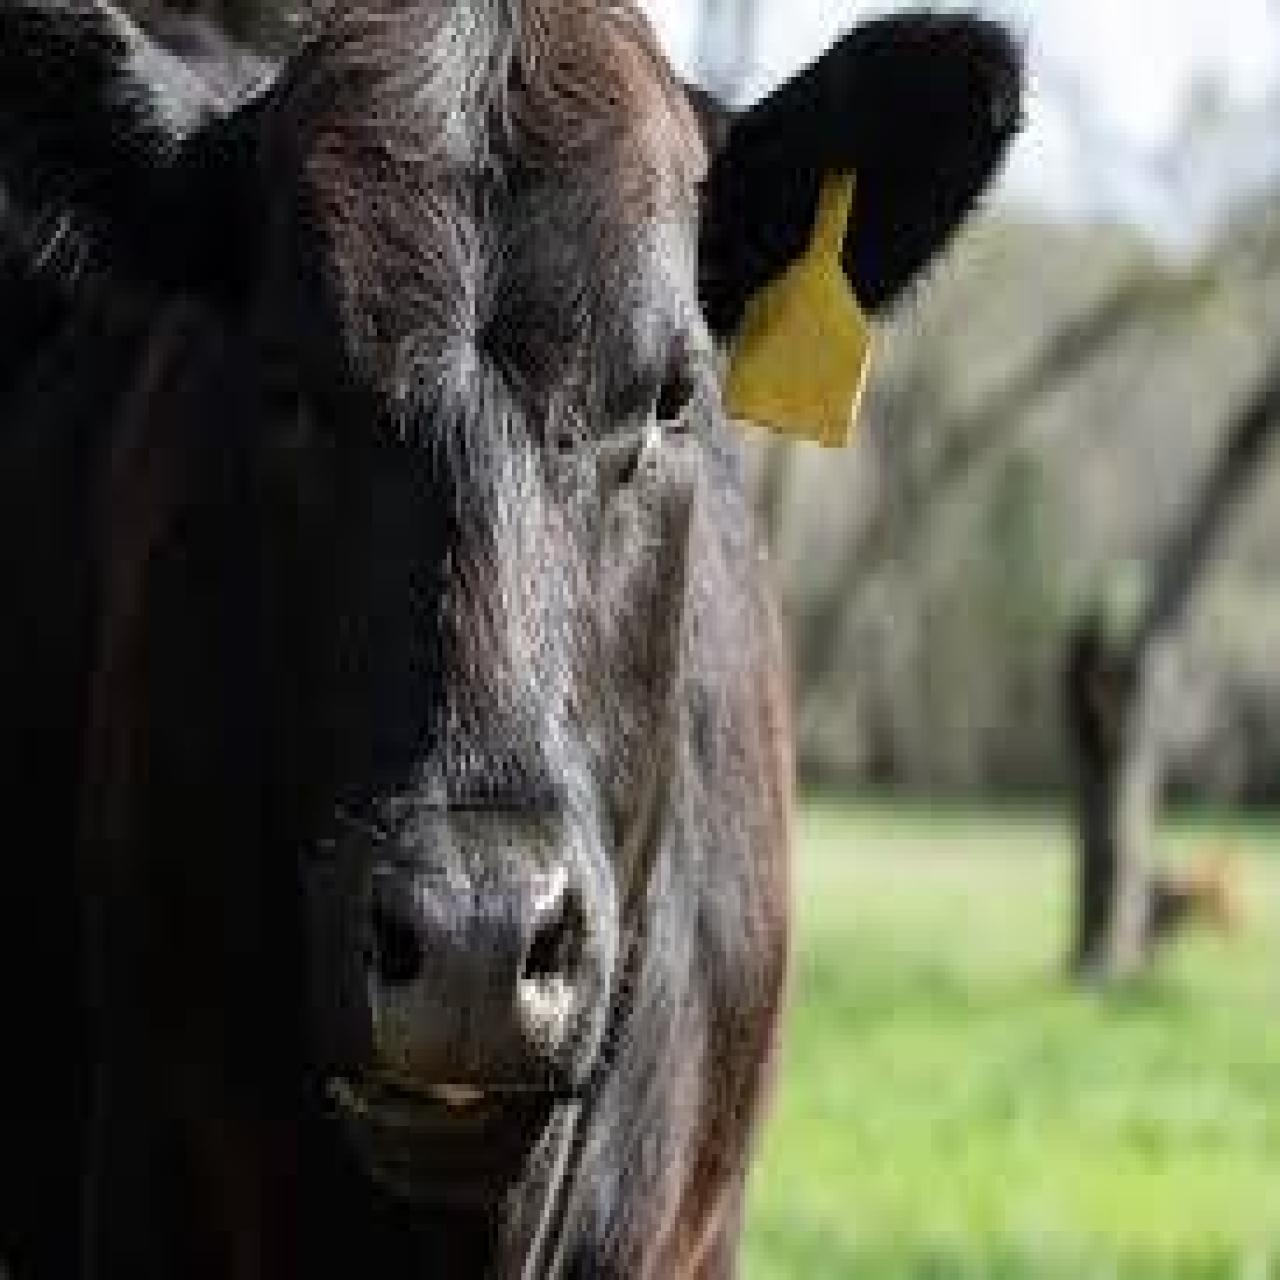cow: (0, 0, 1019, 1280)
